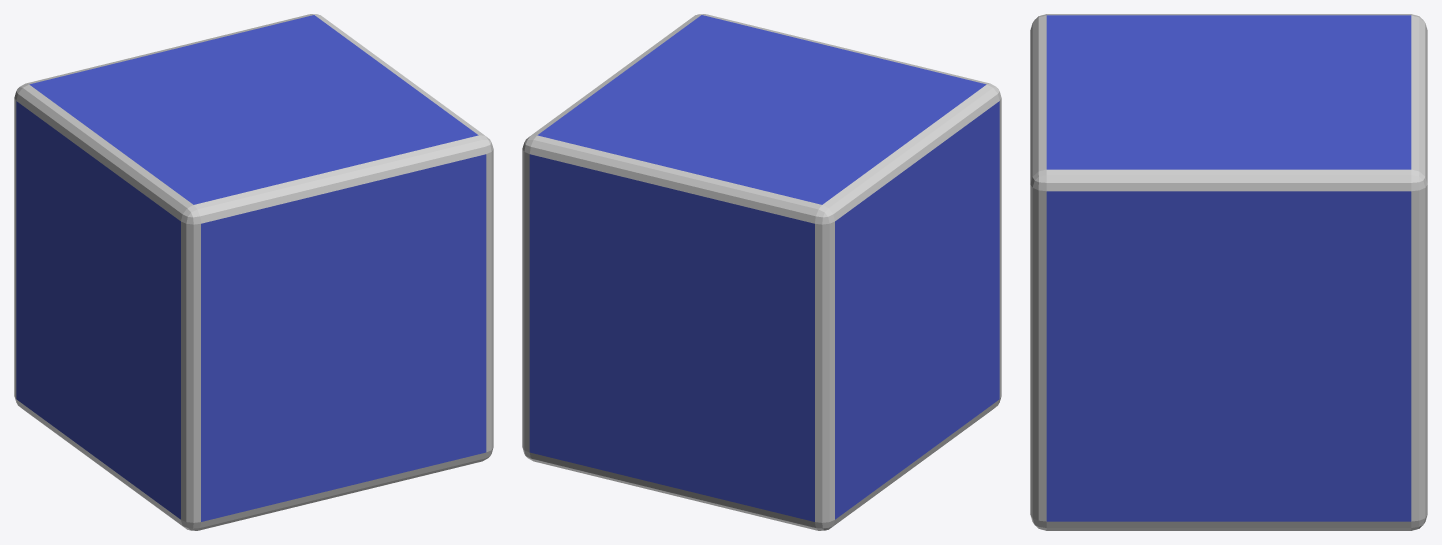
The model's file is Six_Side_Die.fbx.
3 views of the same model, side by side, from view 1: azimuth 30°, elevation 25°; view 2: azimuth 150°, elevation 25°; view 3: azimuth 270°, elevation 25° (orthographic). The views are drawn at different scales.
Parts seen in each view (by area): view 1: Cube; view 2: Cube; view 3: Cube.
Part boxes in pixels (left/top/right/bottom): Cube: left=14, top=14, right=493, bottom=530; Cube: left=522, top=14, right=1001, bottom=530; Cube: left=1030, top=14, right=1427, bottom=530.
Size of the model in its own units: 2 by 2 by 2.
